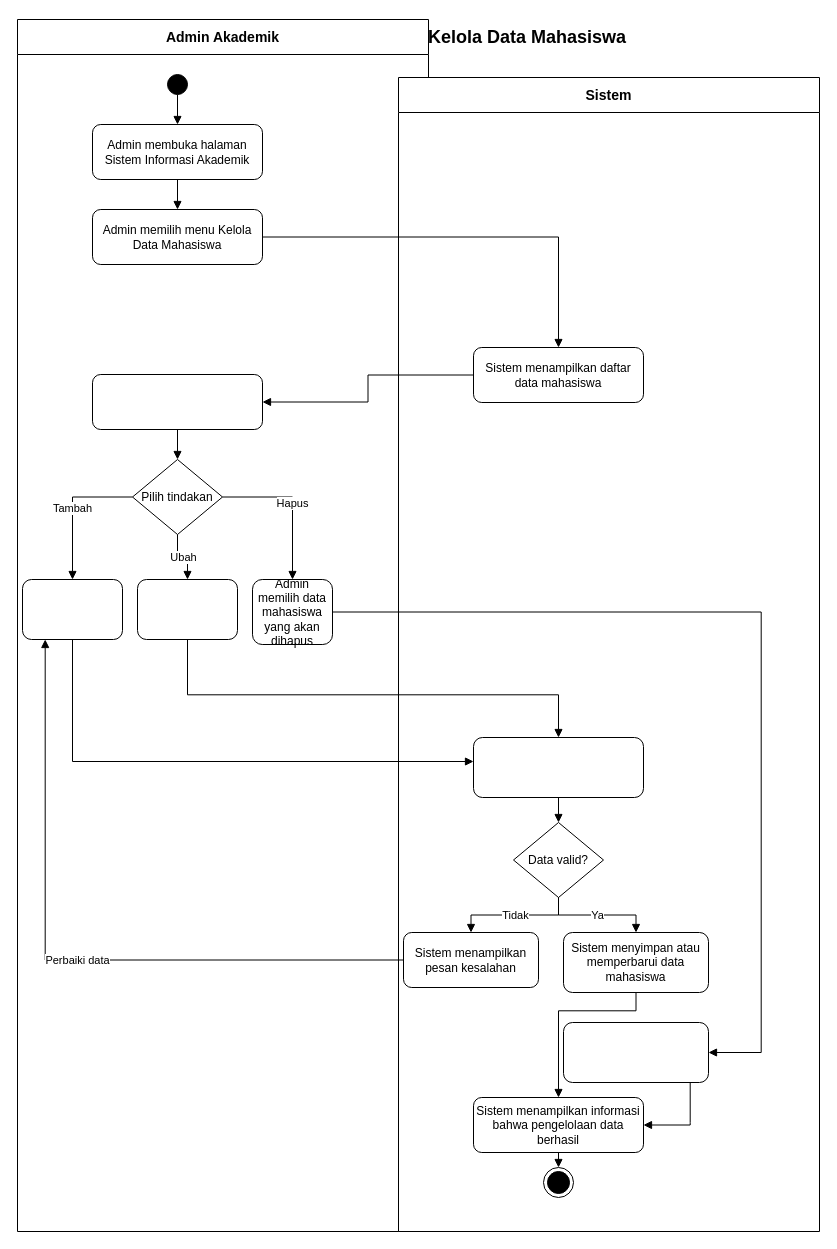
Image size: 837x1249. Some labels were removed from this diagram. The shapes that lost their labels are listed below. From the top down, each one's box as (x1, y1, x2, y2) in pixels, then its label:
(92, 374, 262, 430): Admin memilih tindakan pengelolaan data
(22, 578, 122, 640): Admin mengisi data mahasiswa baru
(136, 578, 238, 640): Admin memilih dan mengubah data mahasiswa
(472, 736, 644, 798): Sistem memeriksa data yang dimasukkan atau diperbarui
(562, 1022, 708, 1082): Sistem menghapus data mahasiswa yang dipilih
